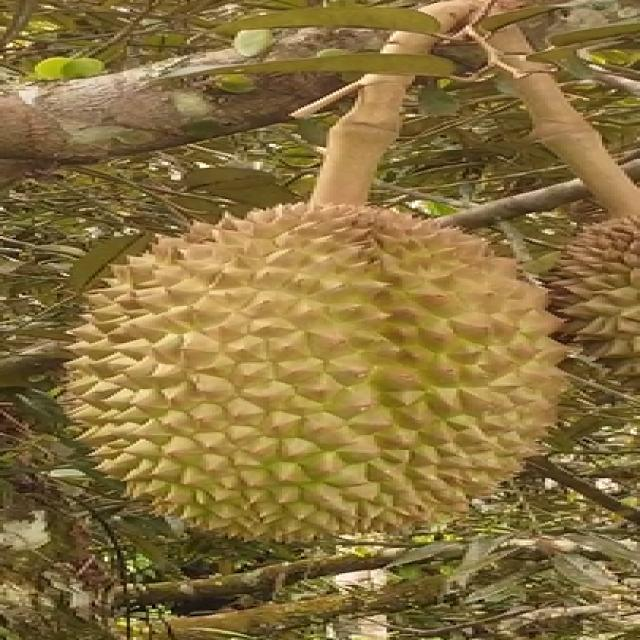mature: (64, 194, 573, 542)
